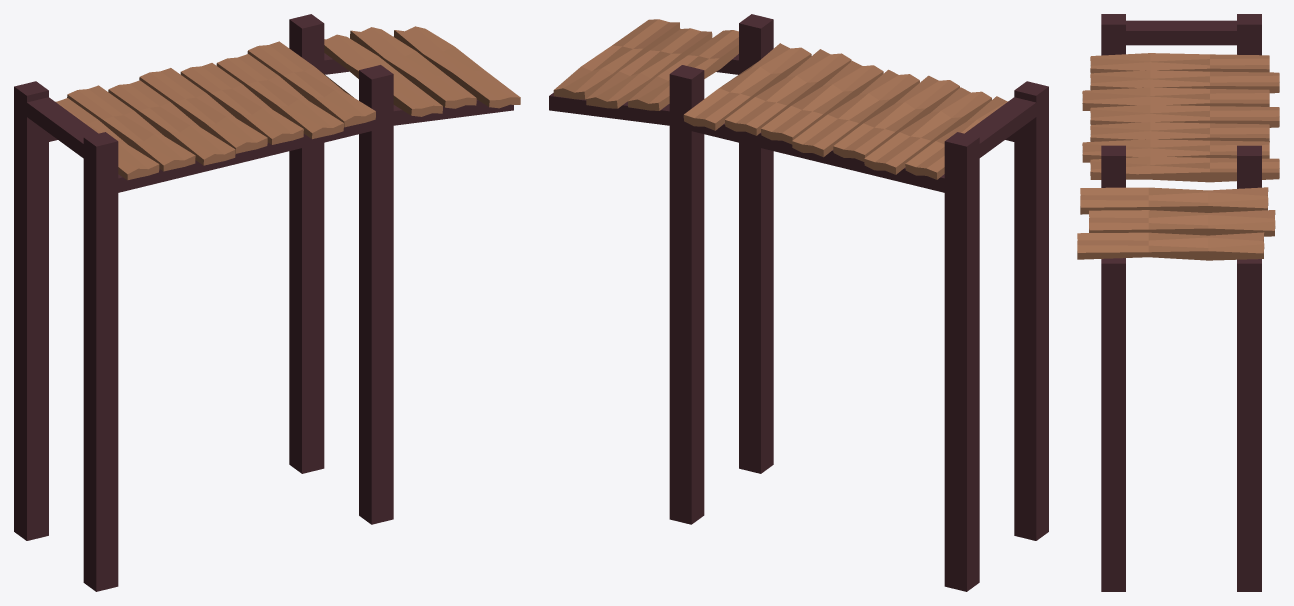
File: prichal.glb
The picture shows the model from 3 angles, left to right: view 1: azimuth 30°, elevation 25°; view 2: azimuth 150°, elevation 25°; view 3: azimuth 270°, elevation 25°; orthographic projection. The views are drawn at different scales.
Parts seen in each view (by area): view 1: причал; view 2: причал; view 3: причал.
Boxes of the visible parts, x1=… form: причал: x1=14, y1=14, x2=520, y2=591; причал: x1=549, y1=14, x2=1048, y2=591; причал: x1=1077, y1=14, x2=1279, y2=591.
Bounding box in the file's own units: 5.27 × 5.37 × 2.26.
1 material, 1 textured.
